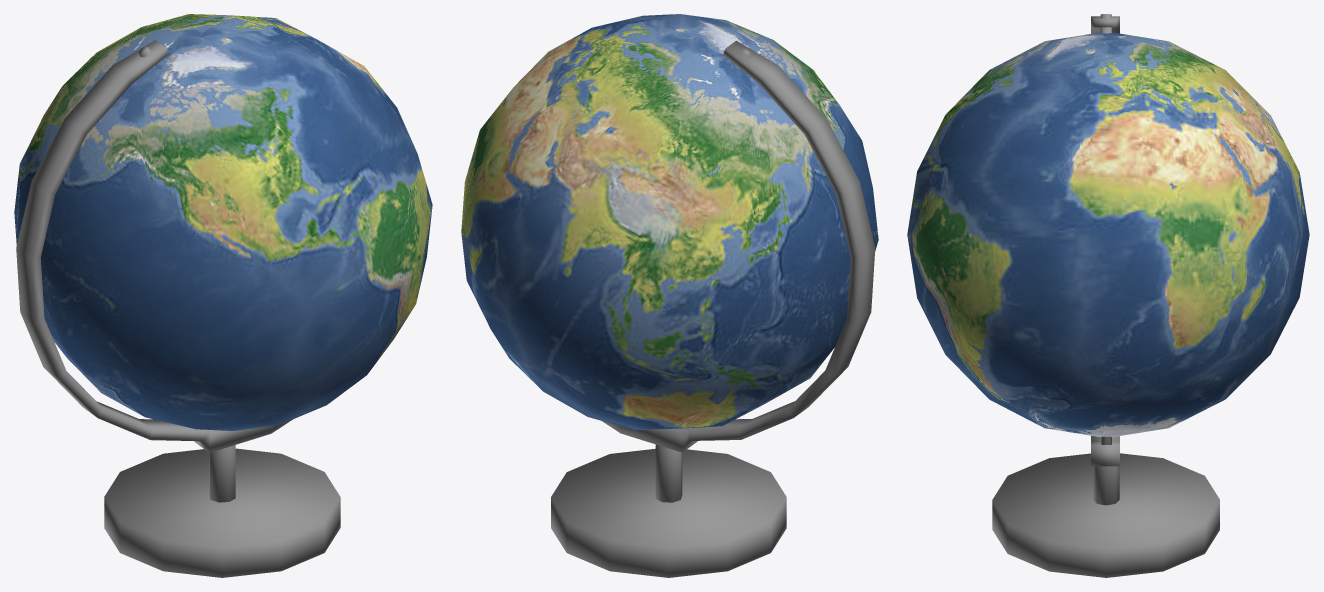
File: Globus.fbx
The picture shows the model from 3 angles, left to right: view 1: azimuth 30°, elevation 25°; view 2: azimuth 150°, elevation 25°; view 3: azimuth 270°, elevation 25°; orthographic projection. The views are drawn at different scales.
Parts seen in each view (by area): view 1: Globus; view 2: Globus; view 3: Globus.
Boxes of the visible parts, x1,y1,x2,y2 form: Globus: (14, 14, 432, 577); Globus: (461, 14, 878, 577); Globus: (907, 14, 1309, 577).
Bounding box in the file's own units: 3.71 × 4.66 × 3.53.
